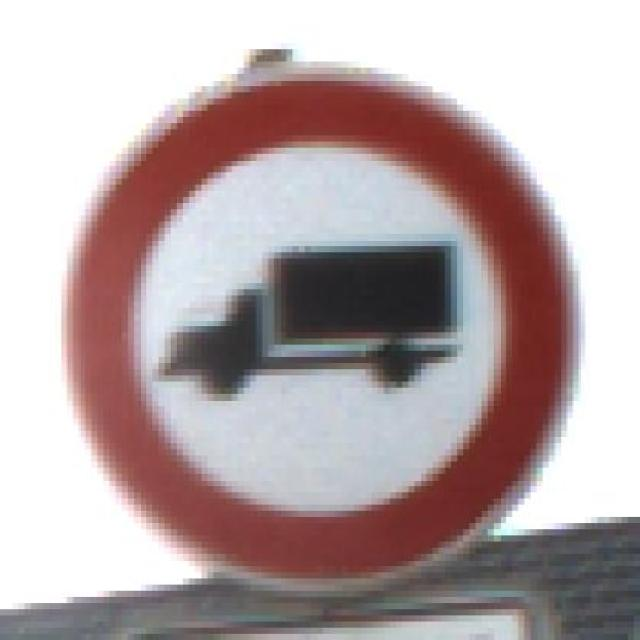Truck traffic is prohibited: (30, 43, 604, 603)
